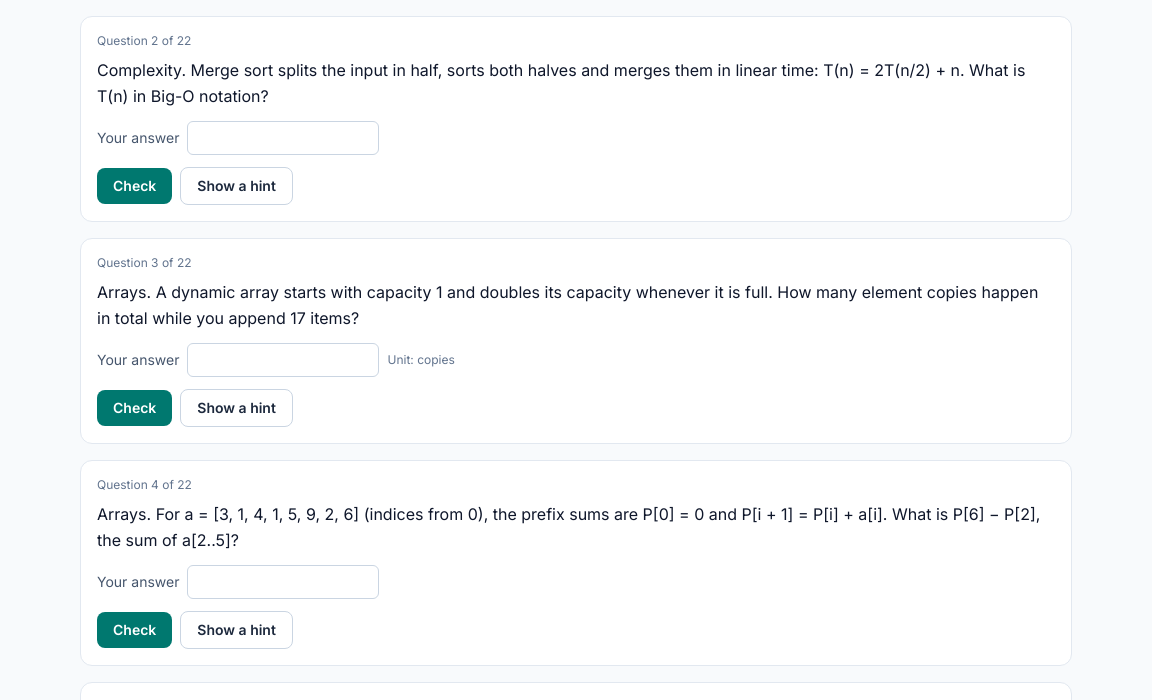
Test: review: foundations › checks a typed number, wrong then right after a hint
(page scrolled)
Type "32" into the field named "answer".
click(284, 360); type("32")  # box [188,343,380,377]
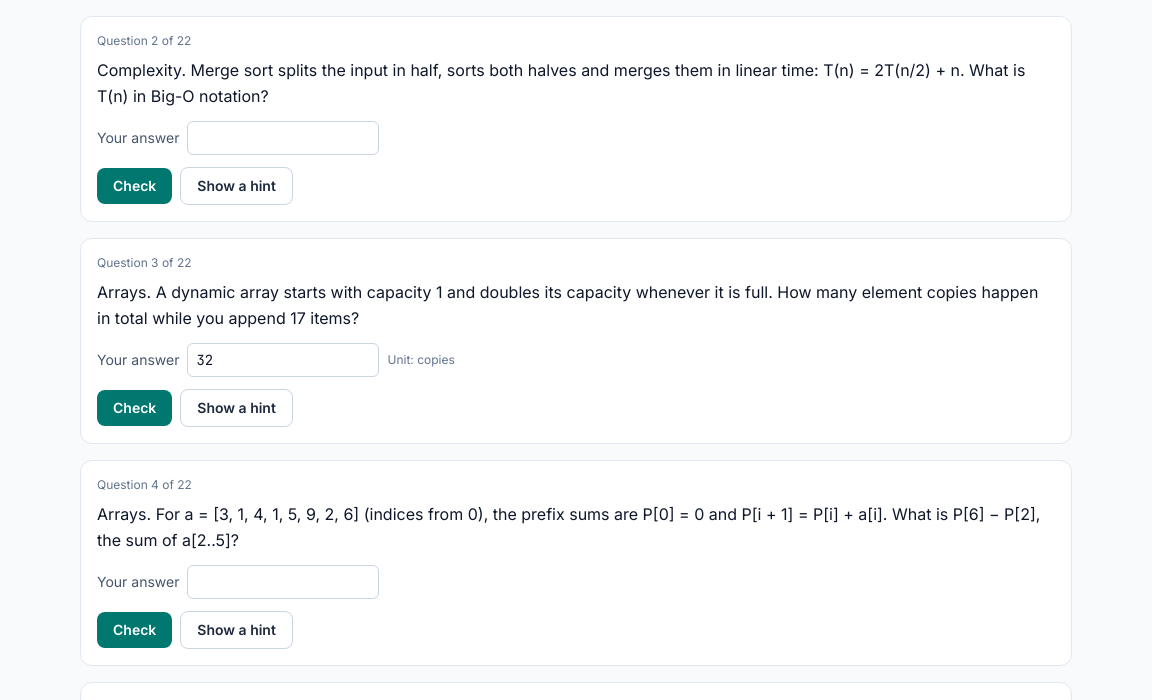
Submit the form "Your answer Unit: copies Check Show a hint", box [97,343,455,427]
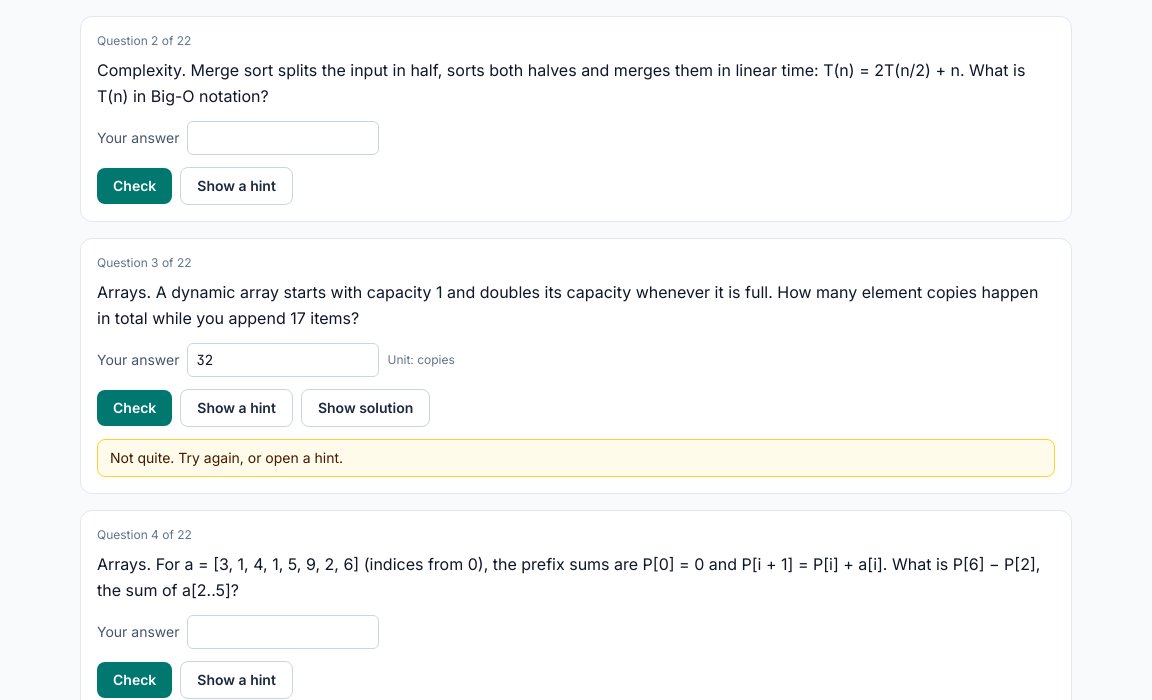
Expected: the list item that starts with "Question 3 of 22" shows "Not quite", [110,449,343,466]
Click the button "Show a hint" below "Unit: copies".
click(237, 408)  # box [180,389,293,427]
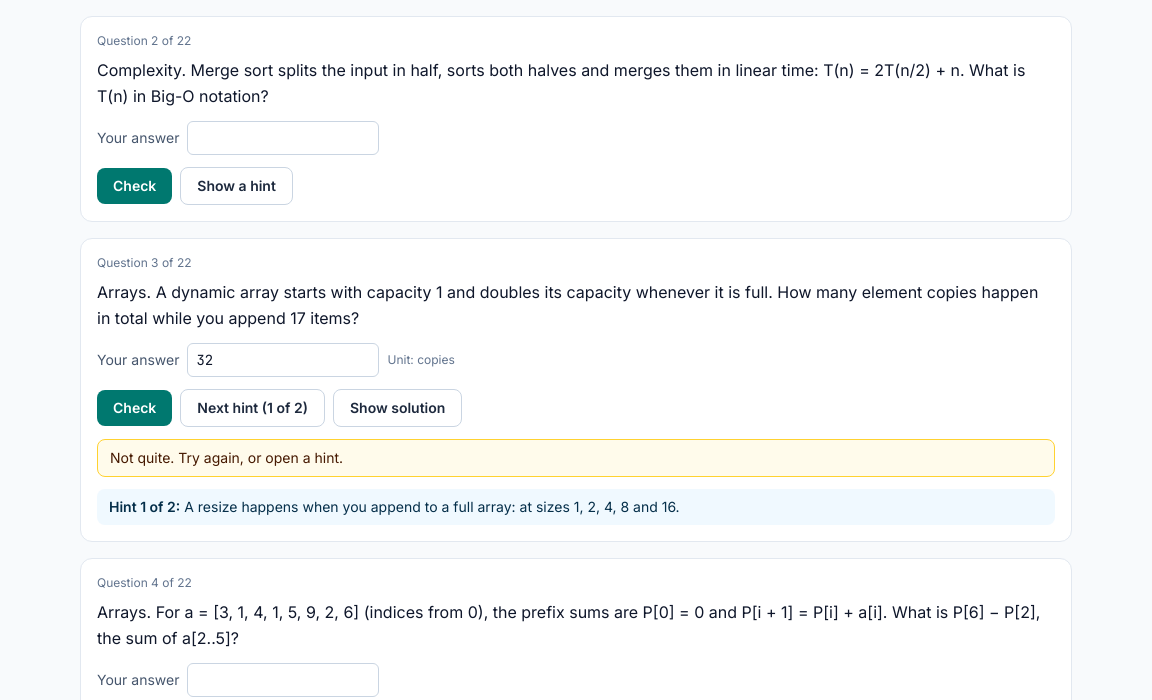
Expected: the list item that starts with "Question 3 of 22" shows "A resize happens when you append to a full array: at sizes 1, 2, 4, 8 and 16.", [180,498,680,515]
Replace the text in the field named "answer" with "31 copies" at (284, 360), box [188,343,380,377]
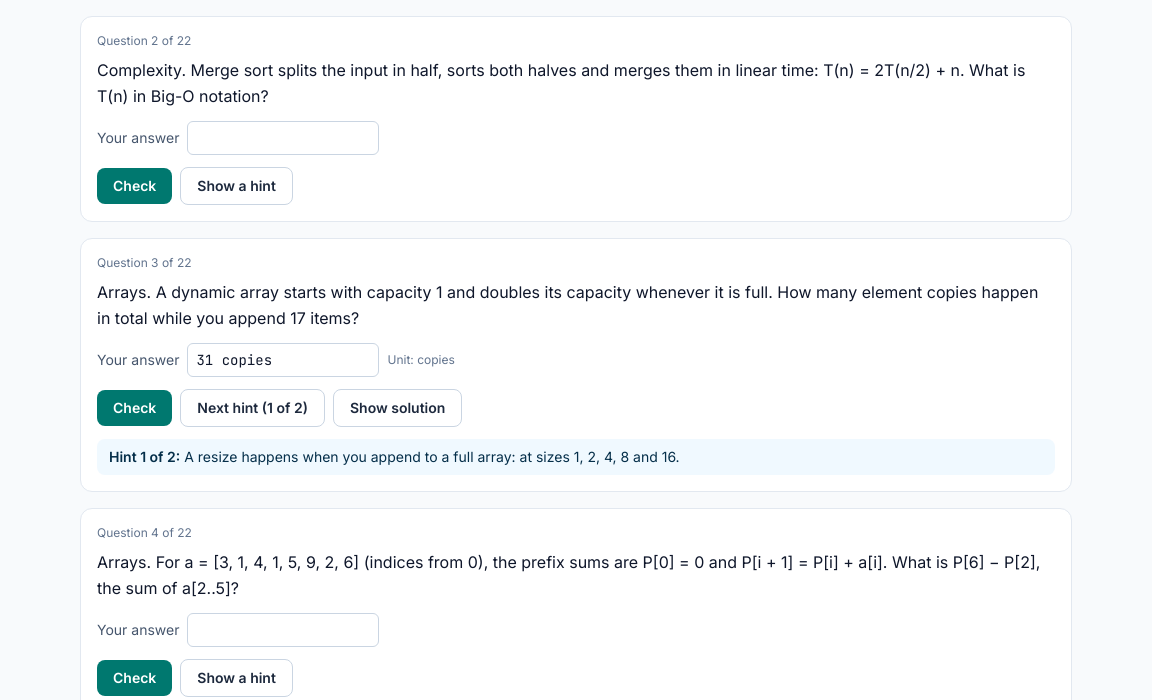
Submit the 2nd form, box [97,343,462,427]
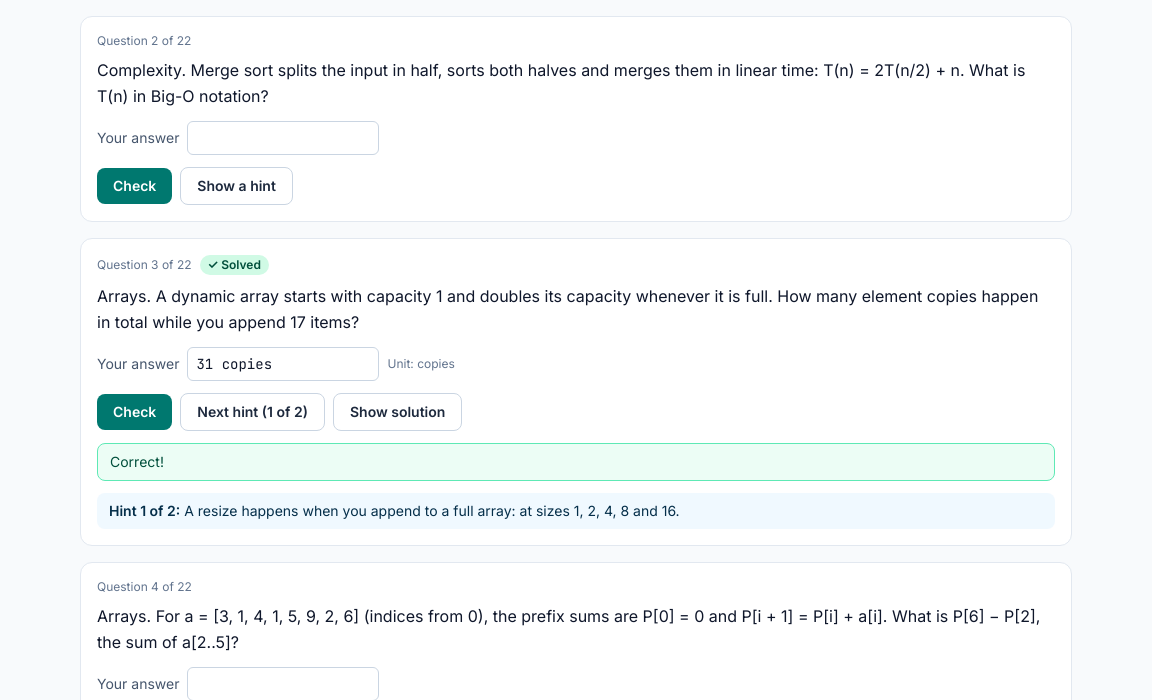
Expected: the list item that starts with "Question 3 of 22" shows "Correct!", [110,453,164,470]
Click the button "Show solution".
click(398, 412)  # box [333,393,462,431]
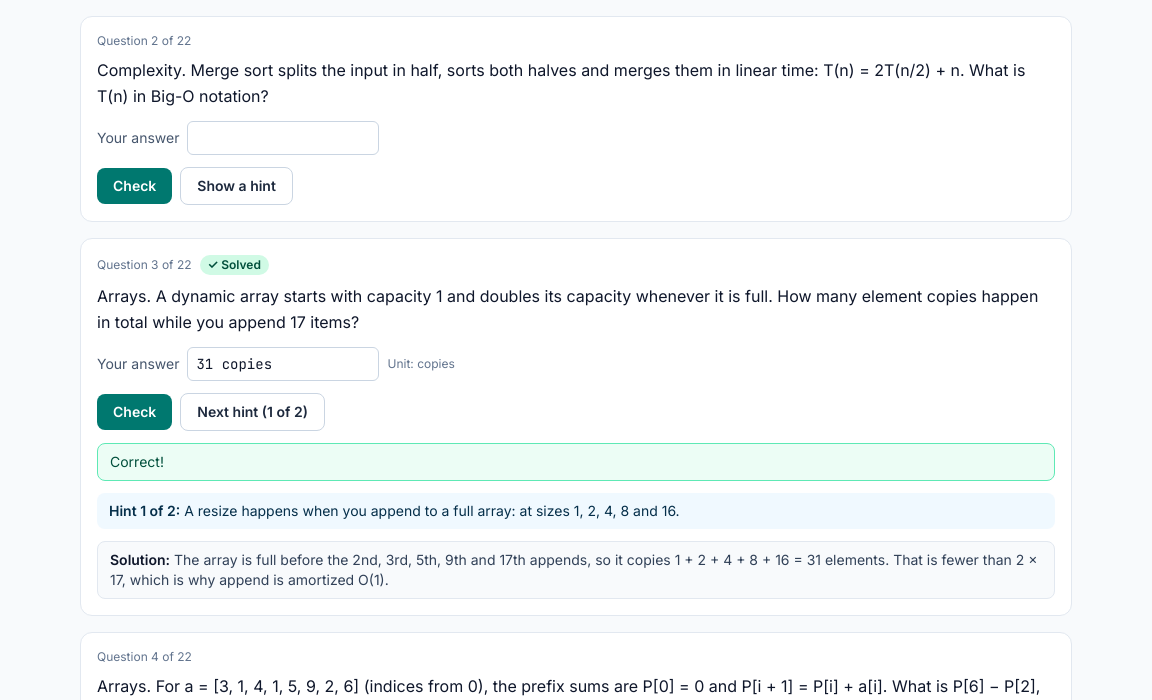
Expected: the list item that starts with "Question 3 of 22" shows "The array is full before the 2nd, 3rd, 5th, 9th and 17th appends, so it copies 1 + 2 + 4 + 8 + 16 = 31 elements. That is fewer than 2 × 17, which is why append", [110,551,1038,588]
